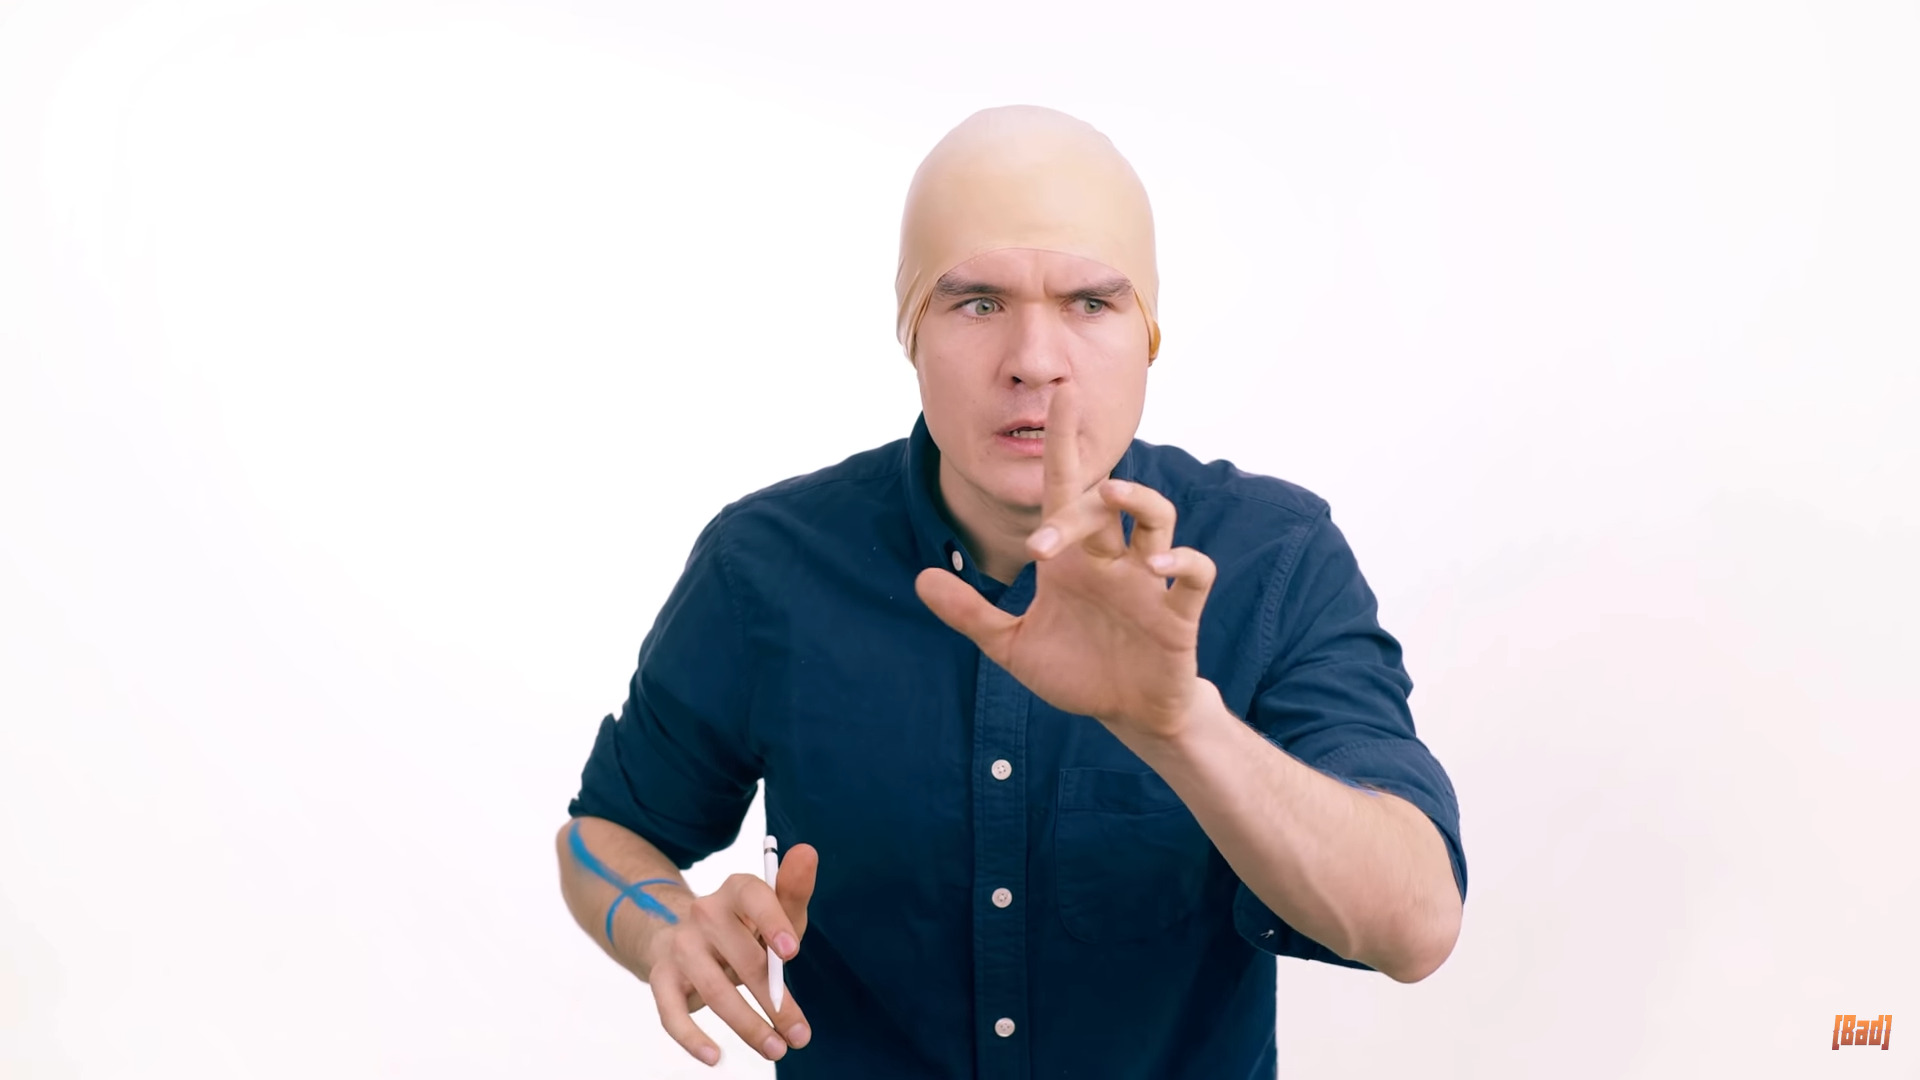hand: (907, 377, 1230, 745), (628, 844, 853, 1069)
